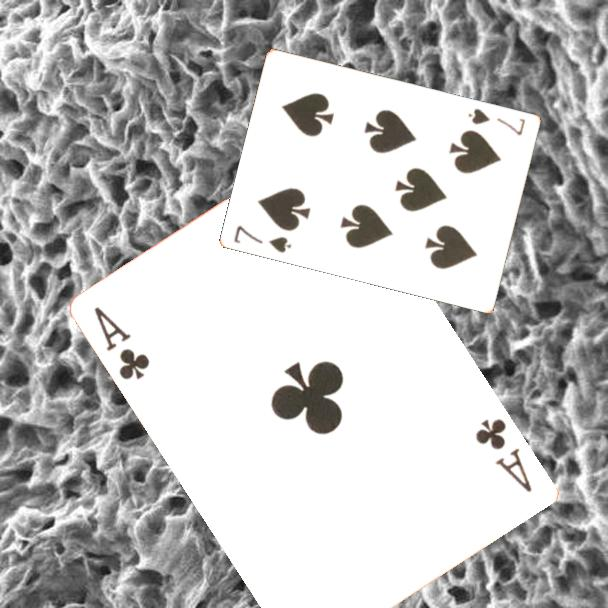c01: (472, 415, 536, 496), (91, 303, 154, 383)
s07: (230, 222, 295, 255), (465, 105, 528, 138)
